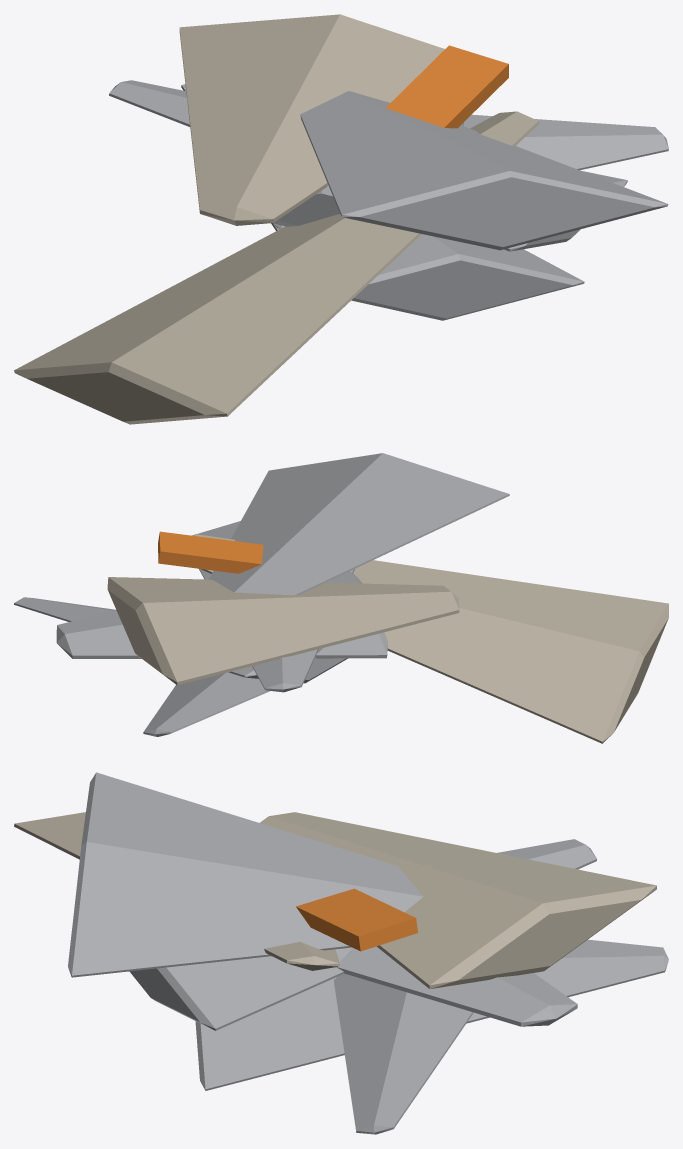
Rendered from TC_PICKUP_Metal_V1.gltf.
3 views of the same model, one above another, from view 1: azimuth 30°, elevation 25°; view 2: azimuth 150°, elevation 25°; view 3: azimuth 270°, elevation 25° (orthographic). The views are drawn at different scales.
Visible parts, largest first — view 1: TC_Metal_Shard_2, TC_Metal_Shard_5, TC_Metal_Shard_6, TC_Metal_Shard_0, TC_Metal_PaintMark, TC_Metal_Shard_1, TC_Metal_Shard_4, TC_Metal_Shard_3; view 2: TC_Metal_Shard_2, TC_Metal_Shard_6, TC_Metal_Shard_5, TC_Metal_Shard_3, TC_Metal_Shard_0, TC_Metal_PaintMark, TC_Metal_Shard_4, TC_Metal_Shard_1; view 3: TC_Metal_Shard_6, TC_Metal_Shard_5, TC_Metal_Shard_0, TC_Metal_Shard_1, TC_Metal_Shard_4, TC_Metal_Shard_3, TC_Metal_PaintMark, TC_Metal_Shard_2.
Part boxes in pixels (left/top/right/bottom): TC_Metal_Shard_2: left=14, top=111, right=539, bottom=424; TC_Metal_Shard_5: left=179, top=14, right=444, bottom=225; TC_Metal_Shard_6: left=300, top=91, right=668, bottom=250; TC_Metal_Shard_0: left=181, top=84, right=584, bottom=320; TC_Metal_PaintMark: left=386, top=45, right=508, bottom=128; TC_Metal_Shard_1: left=273, top=114, right=668, bottom=228; TC_Metal_Shard_4: left=109, top=80, right=627, bottom=251; TC_Metal_Shard_3: left=273, top=123, right=463, bottom=226; TC_Metal_Shard_2: left=193, top=534, right=668, bottom=743; TC_Metal_Shard_6: left=208, top=453, right=509, bottom=595; TC_Metal_Shard_5: left=107, top=577, right=459, bottom=685; TC_Metal_Shard_3: left=56, top=571, right=388, bottom=658; TC_Metal_Shard_0: left=143, top=672, right=269, bottom=736; TC_Metal_PaintMark: left=158, top=531, right=263, bottom=573; TC_Metal_Shard_4: left=192, top=521, right=354, bottom=692; TC_Metal_Shard_1: left=14, top=597, right=347, bottom=683; TC_Metal_Shard_6: left=68, top=772, right=423, bottom=977; TC_Metal_Shard_5: left=260, top=812, right=656, bottom=988; TC_Metal_Shard_0: left=195, top=939, right=668, bottom=1090; TC_Metal_Shard_1: left=334, top=973, right=473, bottom=1134; TC_Metal_Shard_4: left=129, top=839, right=596, bottom=1030; TC_Metal_Shard_3: left=336, top=946, right=577, bottom=1026; TC_Metal_PaintMark: left=296, top=888, right=417, bottom=951; TC_Metal_Shard_2: left=14, top=812, right=339, bottom=970.
Size of the model in its own units: 0.5785 by 0.1557 by 0.4897.
